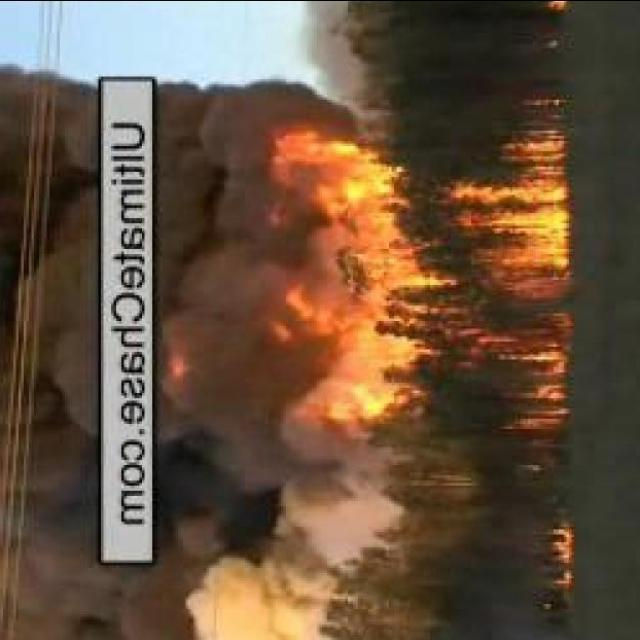Fire: (256, 124, 575, 437), (551, 521, 573, 591), (547, 2, 574, 20)
